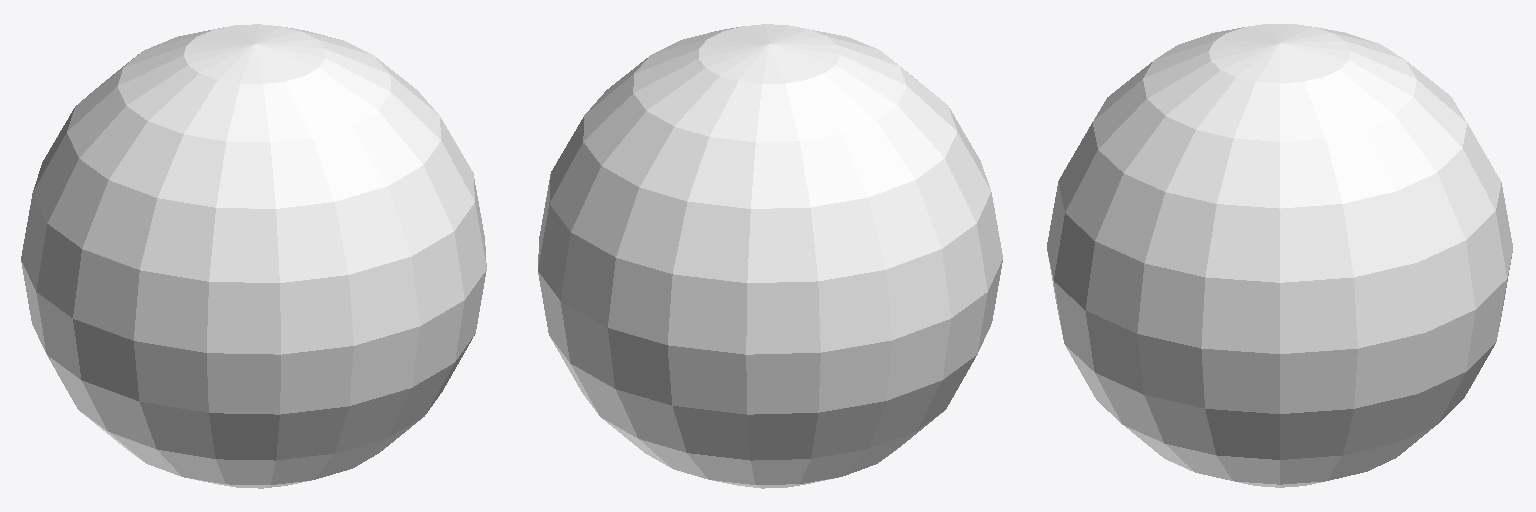
File: moonmesh.obj
The picture shows the model from 3 angles: view 1: azimuth 30°, elevation 25°; view 2: azimuth 150°, elevation 25°; view 3: azimuth 270°, elevation 25°; orthographic projection.
Parts seen in each view (by area): view 1: Default object_1; view 2: Default object_1; view 3: Default object_1.
Part boxes in pixels (left/top/right/bottom): Default object_1: left=21, top=24, right=486, bottom=488; Default object_1: left=538, top=24, right=1002, bottom=488; Default object_1: left=1047, top=24, right=1512, bottom=487.
Size of the model in its own units: 11.93 by 12 by 11.96.